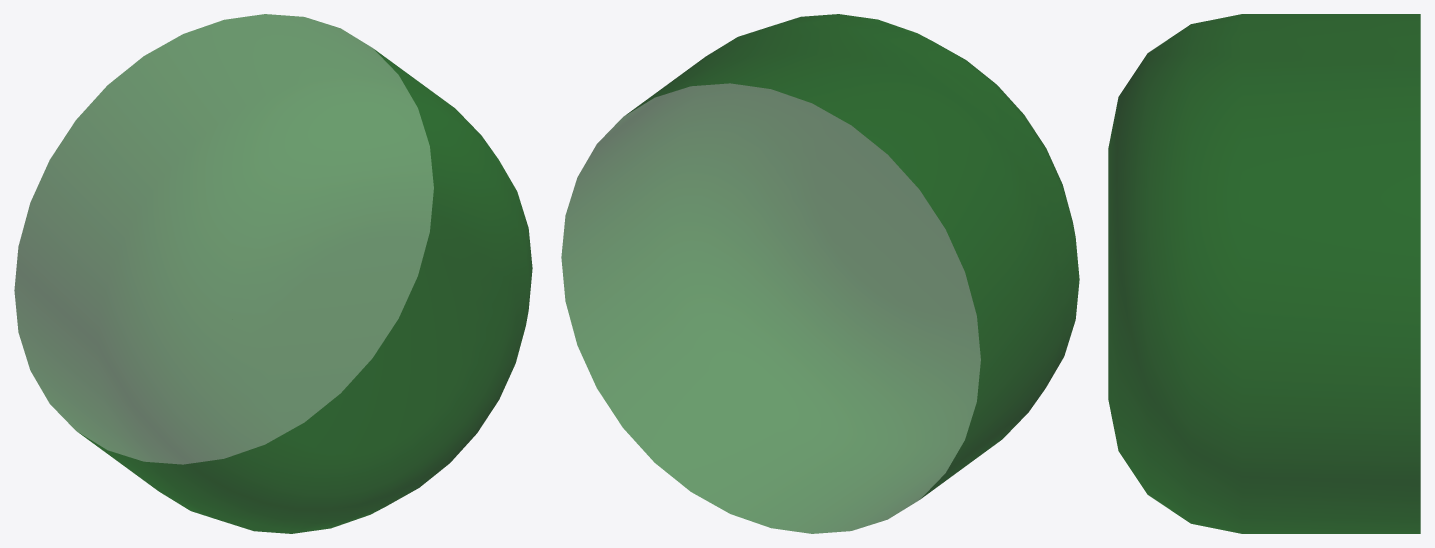
Rendered from ButtonsGlass_MouseGreenTrans_0.dae.
3 renders of one model, left to right at view 1: azimuth 30°, elevation 25°; view 2: azimuth 150°, elevation 25°; view 3: azimuth 270°, elevation 25°, orthographic. The views are drawn at different scales.
Visible parts, largest first — view 1: ButtonsGlass_MouseGreenTrans_0; view 2: ButtonsGlass_MouseGreenTrans_0; view 3: ButtonsGlass_MouseGreenTrans_0.
Part boxes in pixels (x1,y1,x2,y2): ButtonsGlass_MouseGreenTrans_0: (14, 14, 532, 533); ButtonsGlass_MouseGreenTrans_0: (561, 14, 1079, 533); ButtonsGlass_MouseGreenTrans_0: (1108, 14, 1420, 533).
Size of the model in its own units: 0.00794 by 0.00794 by 0.00476.
